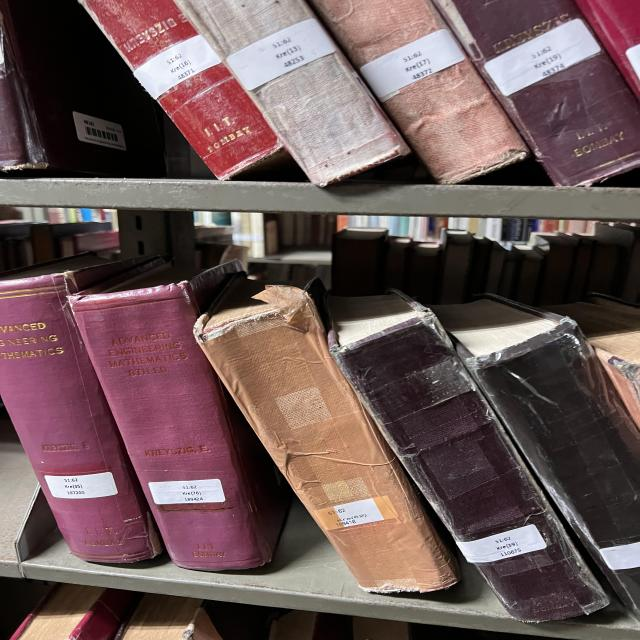Book: (328, 290, 608, 621), (193, 275, 458, 592), (70, 261, 290, 570), (432, 295, 640, 616), (0, 259, 162, 562)
Label: (457, 524, 547, 562), (45, 471, 118, 499), (148, 479, 225, 505), (333, 499, 383, 526), (600, 542, 640, 570)
